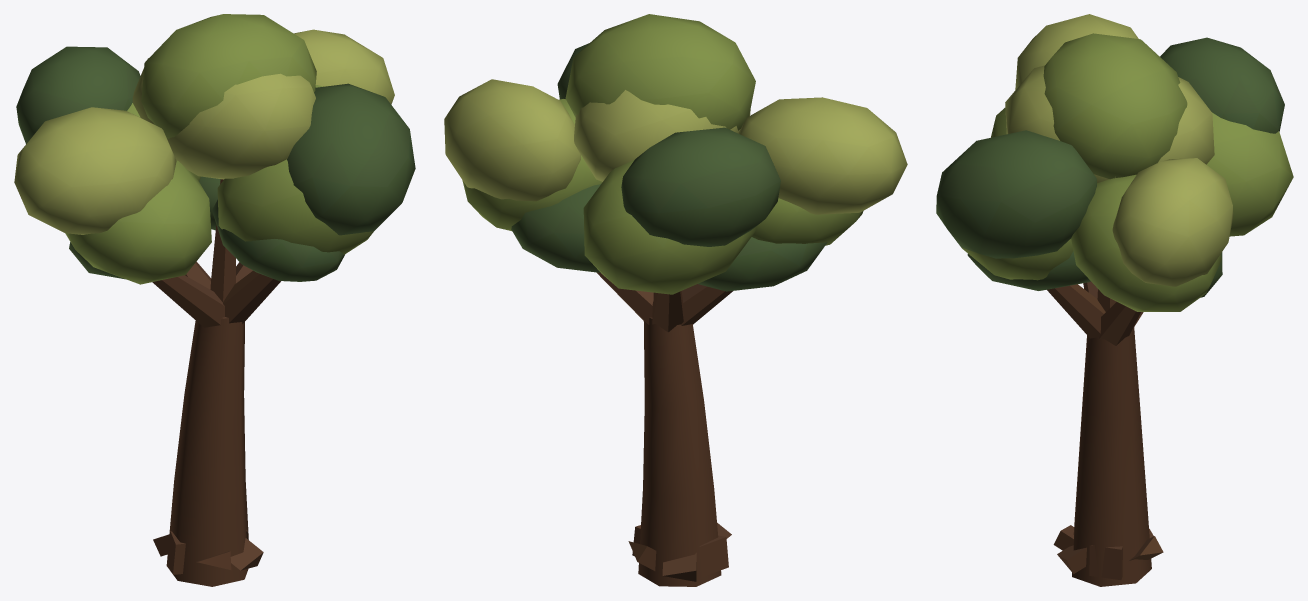
Rendered from tree_oak_broadleaf_a.glb.
3 renders of one model, left to right at view 1: azimuth 30°, elevation 25°; view 2: azimuth 150°, elevation 25°; view 3: azimuth 270°, elevation 25°, orthographic.
Parts seen in each view (by area): view 1: oak_canopy_01, oak_canopy_00, oak_canopy_03, oak_fork_0; view 2: oak_canopy_01, oak_canopy_00, oak_canopy_03, oak_fork_0; view 3: oak_canopy_00, oak_canopy_03, oak_fork_0, oak_canopy_01.
Part boxes in pixels (x1,y1,x2,y2): oak_canopy_01: (14,29,394,234); oak_canopy_00: (65,14,373,284); oak_canopy_03: (16,46,415,281); oak_fork_0: (152,179,280,586); oak_canopy_01: (444,79,907,214); oak_canopy_00: (462,14,863,294); oak_canopy_03: (511,43,827,291); oak_fork_0: (596,272,732,586); oak_canopy_00: (961,33,1293,311); oak_canopy_03: (936,37,1284,297); oak_fork_0: (1047,281,1163,586); oak_canopy_01: (1005,14,1233,286).
Size of the model in its own units: 4.62 by 5.87 by 3.57.
